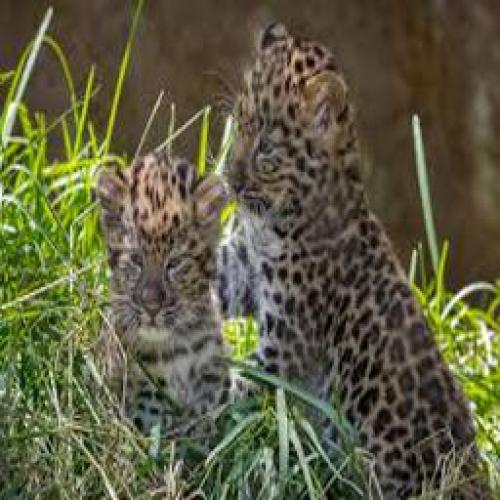amur_leopard-endangered: (203, 20, 495, 500), (93, 154, 234, 426)
